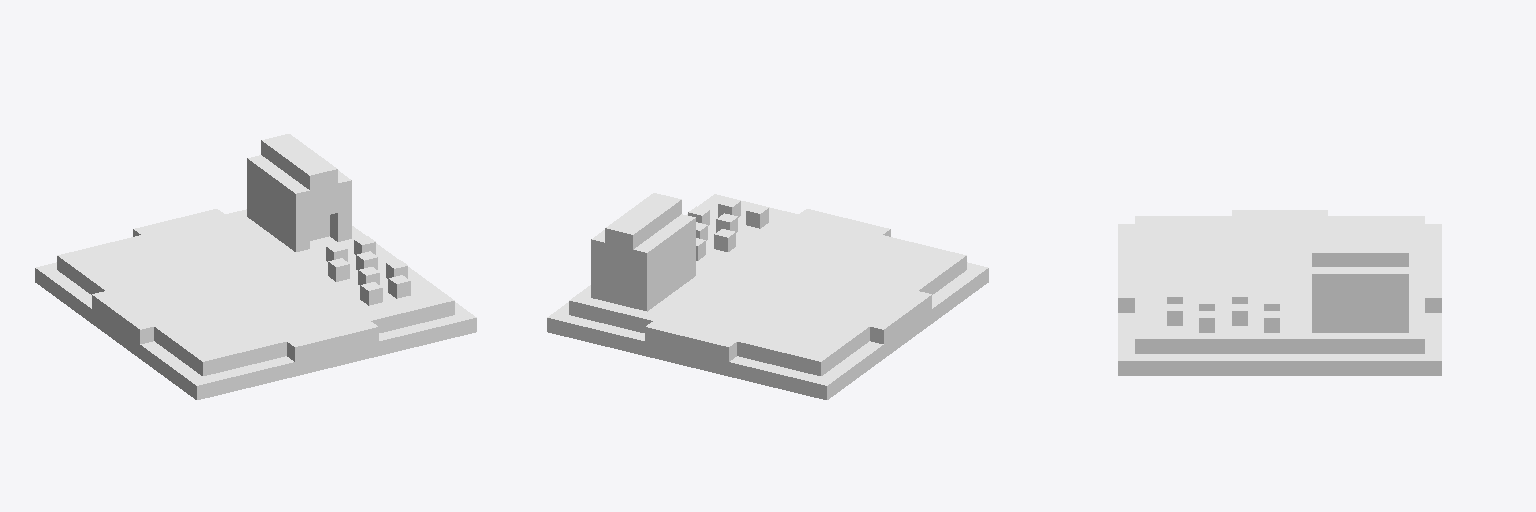
The model's file is threewaypumpkin.obj.
The picture shows the model from 3 angles: view 1: azimuth 30°, elevation 25°; view 2: azimuth 150°, elevation 25°; view 3: azimuth 270°, elevation 25°; orthographic projection.
Bounding box in the file's own units: 20 × 7 × 20.